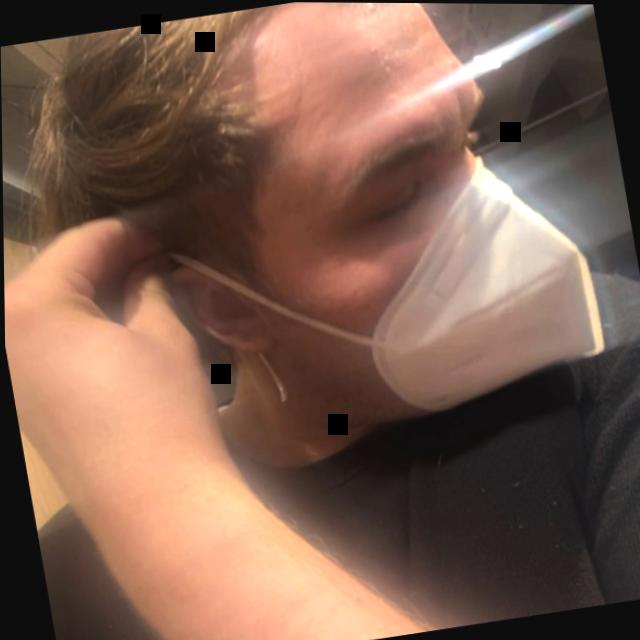Mask: (54, 0, 640, 439)
